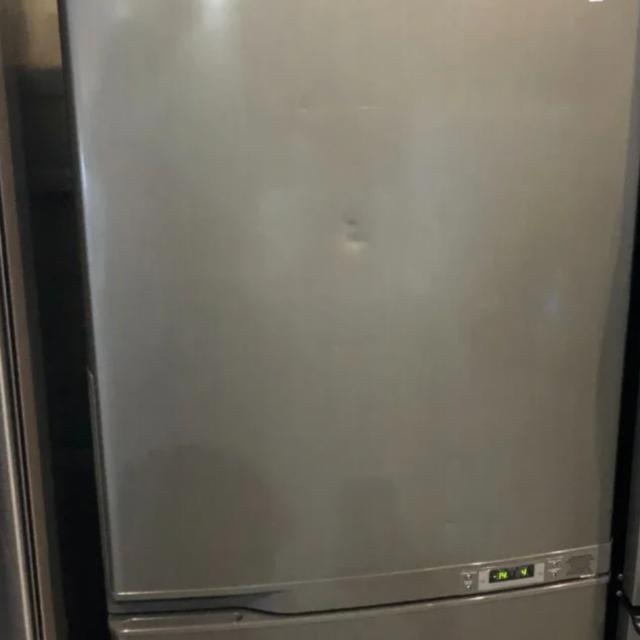dents: (316, 205, 404, 278)
